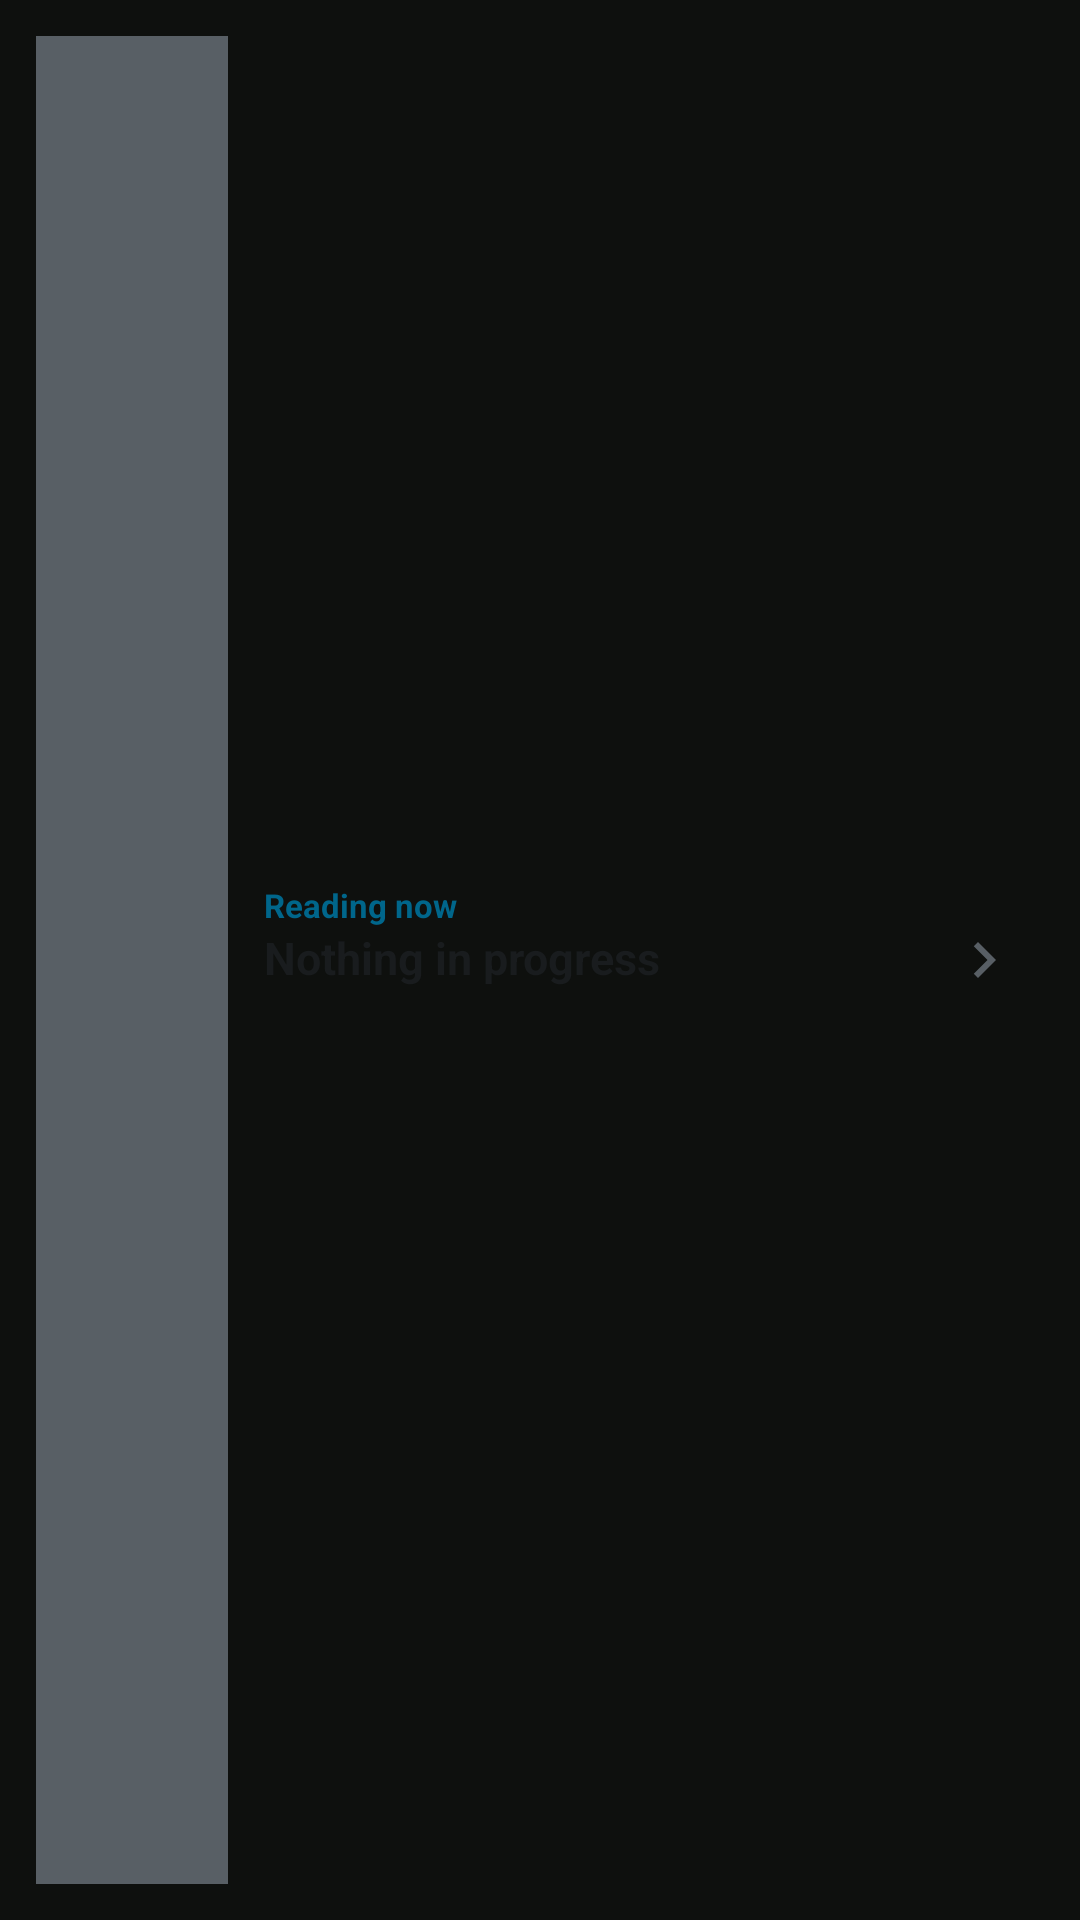

Icons on this 1080 x 1920 Android screen, each with its box as rect(x1, y1, x2, y2):
Next series: rect(974, 942, 996, 978)
